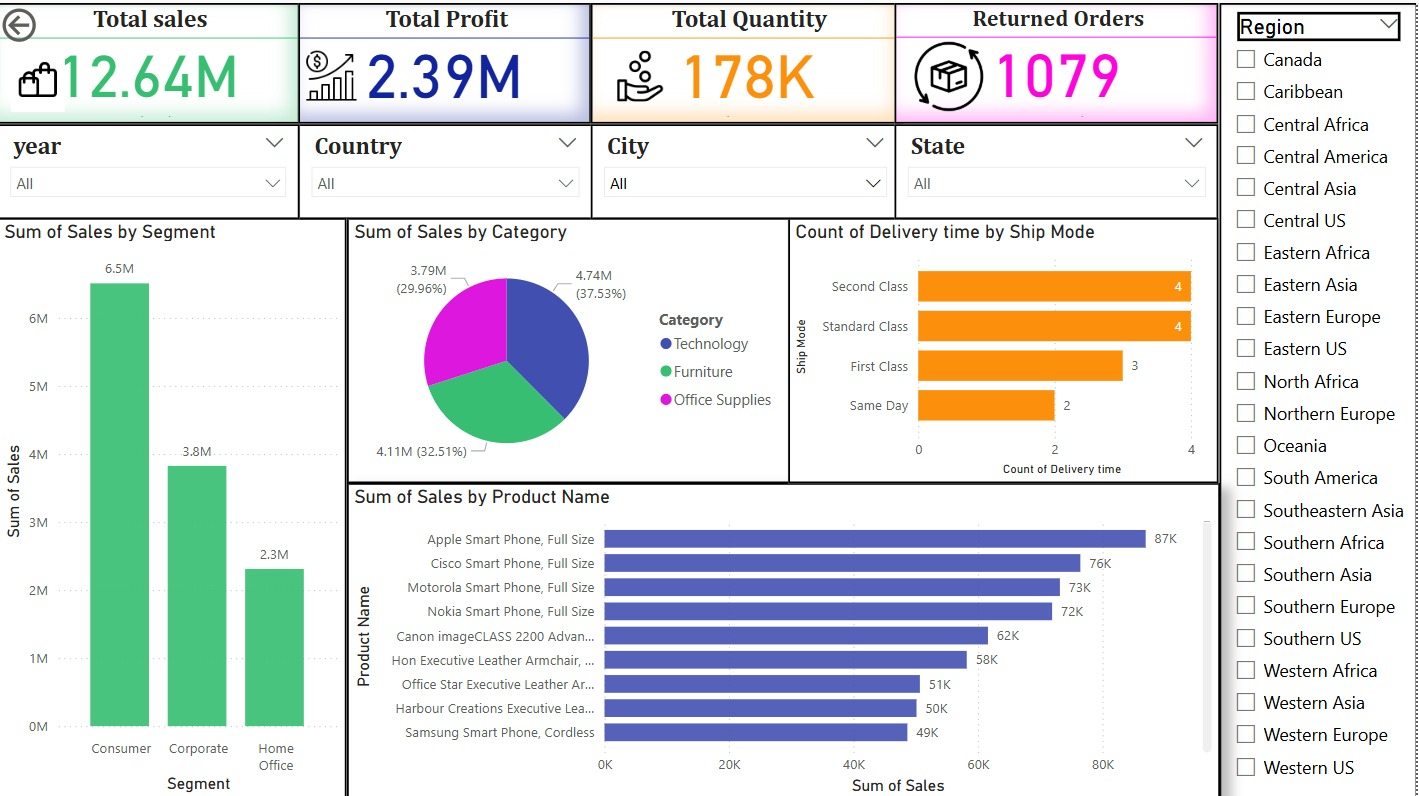

The dashboard page shown, as its layout file describes it:
{"tool":"powerbi","page":{"name":"Page 1","canvas":[1280,720],"ordinal":0},"visuals":[{"type":"card","title":"Total sales","fields":{"Values":["Orders.Total Sales"]},"box":[0,0,272.7,108.8],"z":0},{"type":"actionButton","box":[0,0,100,40],"z":1000},{"type":"pieChart","fields":{"Category":["Orders.Category"],"Y":["Sum(Orders.Sales)"]},"box":[315.1,194.2,398.8,239.5],"z":2000},{"type":"card","title":"Total Profit","fields":{"Values":["Orders.total profit"]},"box":[271.5,0,264.1,108.8],"z":3000},{"type":"card","title":"Total Quantity","fields":{"Values":["Orders.total quantity"]},"box":[535.6,0,282.5,108.8],"z":4000},{"type":"slicer","fields":{"Values":["Orders.Region"]},"box":[1101.8,0,178.5,720.2],"z":5000},{"type":"barChart","fields":{"Category":["Orders.Product Name"],"Y":["Sum(Orders.Sales)"]},"box":[315.1,432.6,787.2,288.4],"z":6000},{"type":"clusteredBarChart","fields":{"Category":["Orders.Ship Mode"],"Y":["Count(Orders.Delivery time)"]},"box":[714,194.2,388.4,239.5],"z":7000},{"type":"slicer","fields":{"Values":["Orders.Country"]},"box":[271.5,108.8,265.4,85.6],"z":8000},{"type":"slicer","fields":{"Values":["Orders.City"]},"box":[535.6,108.8,278.8,85.6],"z":9000},{"type":"slicer","fields":{"Values":["Orders.State"]},"box":[809.5,108.8,292.3,85.6],"z":10000},{"type":"columnChart","fields":{"Category":["Orders.Segment"],"Y":["Sum(Orders.Sales)"]},"box":[0,194.2,315.1,525.6],"z":11000},{"type":"card","title":"Returned Orders","fields":{"Values":["Orders.return orders"]},"box":[809.5,0,292.3,108.8],"z":12000},{"type":"slicer","fields":{"Values":["Orders.year"]},"box":[0,108.8,272.7,85.6],"z":13000},{"type":"image","box":[12.2,40.4,48.9,57.5],"z":14000},{"type":"image","box":[272.7,33,57.5,64.8],"z":15000},{"type":"image","box":[552.7,37.9,55,55],"z":15001},{"type":"image","box":[818.1,26.9,79.5,78.3],"z":15002}]}

Visuals, with their boxes in screenshot pixels (x1, y1, x2, y2), scaled from the page's 1280x720 canvas onto the 1419x796 screenshot:
"Total sales" card: 0:0:302:120
actionButton: 0:0:111:44
pieChart - Orders.Category x Sum(Orders.Sales): 349:215:791:479
"Total Profit" card: 301:0:594:120
"Total Quantity" card: 594:0:907:120
slicer - Orders.Region: 1221:0:1418:795
barChart - Orders.Product Name x Sum(Orders.Sales): 349:478:1222:795
clusteredBarChart - Orders.Ship Mode x Count(Orders.Delivery time): 792:215:1222:479
slicer - Orders.Country: 301:120:595:215
slicer - Orders.City: 594:120:903:215
slicer - Orders.State: 897:120:1221:215
columnChart - Orders.Segment x Sum(Orders.Sales): 0:215:349:795
"Returned Orders" card: 897:0:1221:120
slicer - Orders.year: 0:120:302:215
image: 14:45:68:108
image: 302:36:366:108
image: 613:42:674:103
image: 907:30:995:116
